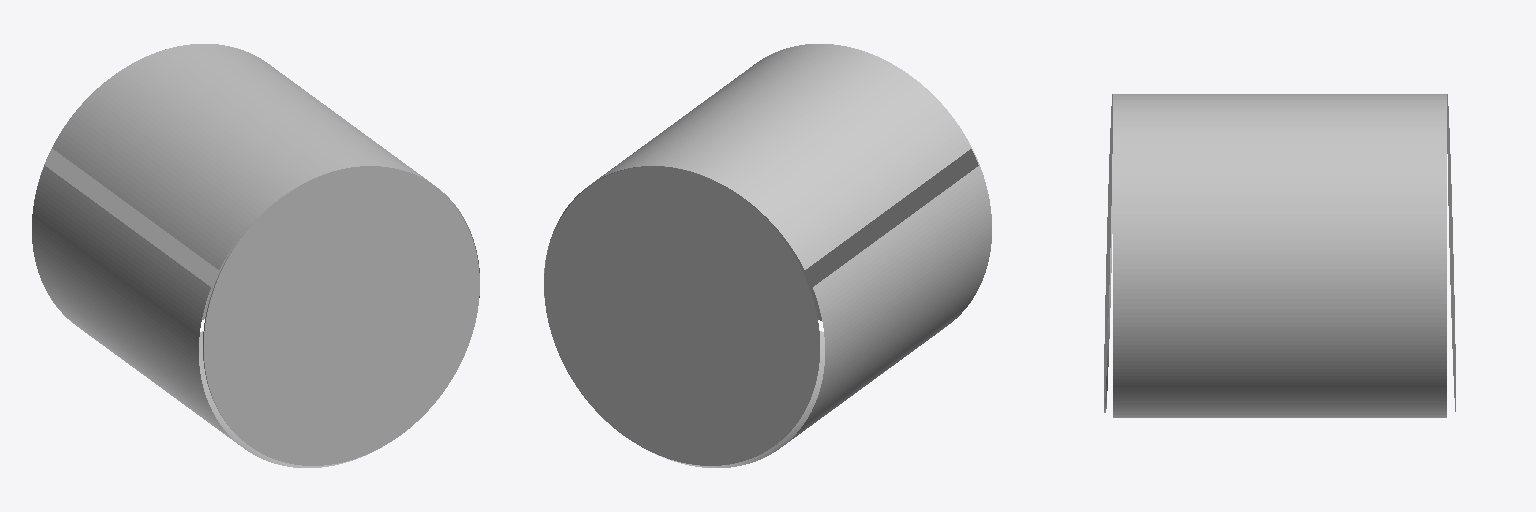
File: plane bend92.obj
The picture shows the model from 3 angles: view 1: azimuth 30°, elevation 25°; view 2: azimuth 150°, elevation 25°; view 3: azimuth 270°, elevation 25°; orthographic projection.
Parts seen in each view (by area): view 1: Plane, Circle, Circle.001; view 2: Plane, Circle.001, Circle; view 3: Plane, Circle, Circle.001.
Boxes of the visible parts, box(x1,y1,x2,y2) form: Plane: box(32, 44, 479, 467); Circle: box(203, 166, 479, 465); Circle.001: box(34, 49, 255, 319); Plane: box(544, 44, 991, 467); Circle.001: box(544, 166, 819, 465); Circle: box(725, 45, 989, 320); Plane: box(1113, 94, 1446, 417); Circle: box(1104, 94, 1113, 412); Circle.001: box(1447, 94, 1455, 411).
Bounding box in the file's own units: 1.95 × 1.95 × 2.11.